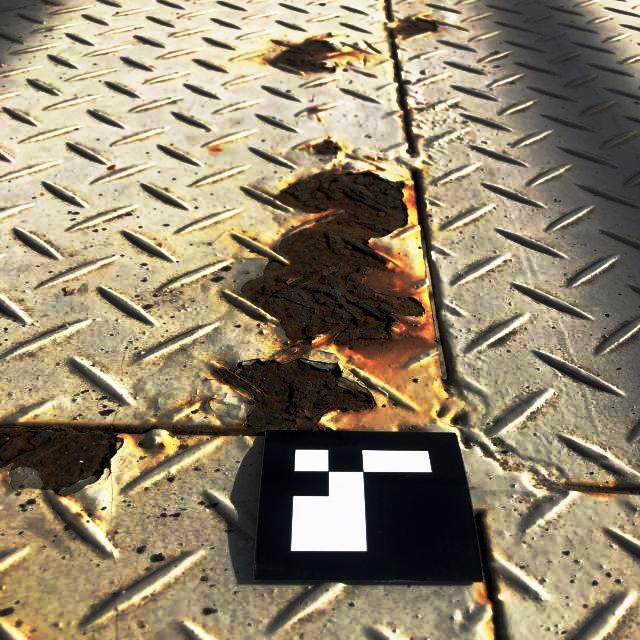Corrosion: (241, 169, 424, 346), (214, 360, 375, 430), (0, 427, 119, 493), (271, 37, 340, 71), (393, 17, 439, 37), (312, 138, 342, 155)
